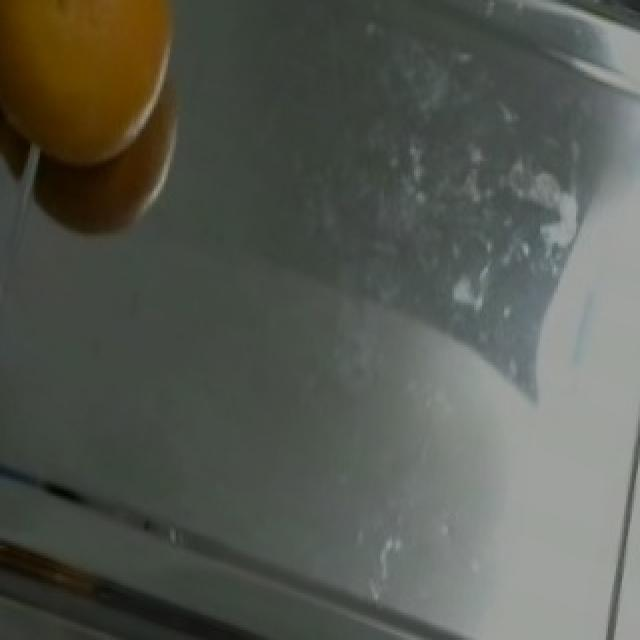Fruit: (2, 0, 206, 193)
